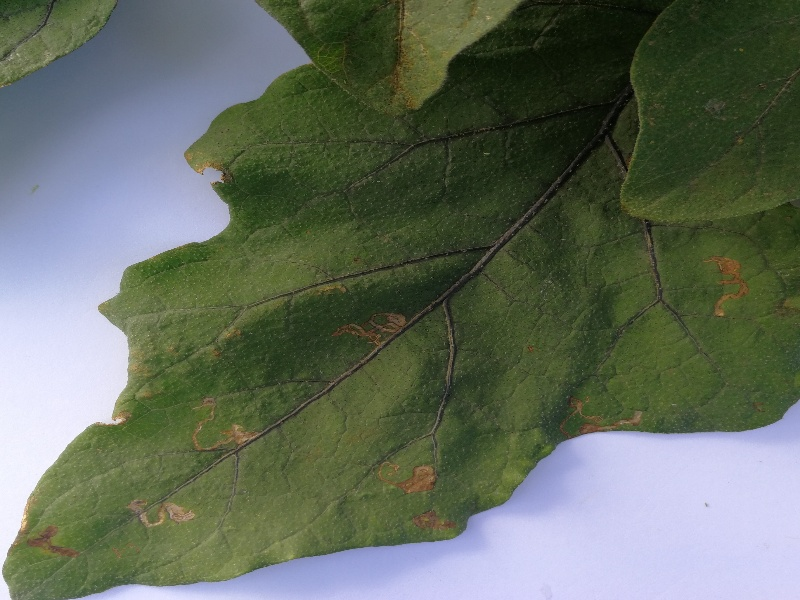leafminer: (177, 393, 269, 458), (5, 495, 90, 564), (114, 489, 209, 549), (329, 302, 420, 356), (691, 248, 754, 325), (552, 392, 654, 436), (374, 456, 446, 498), (405, 504, 461, 535)
